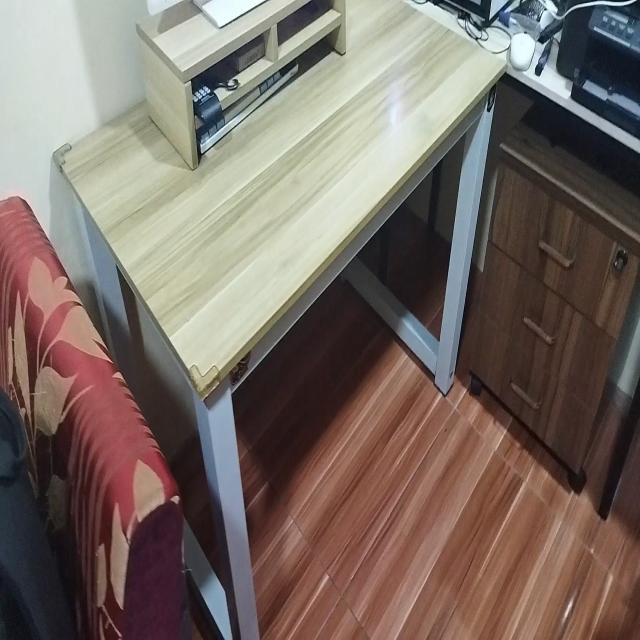table: (72, 0, 498, 495)
